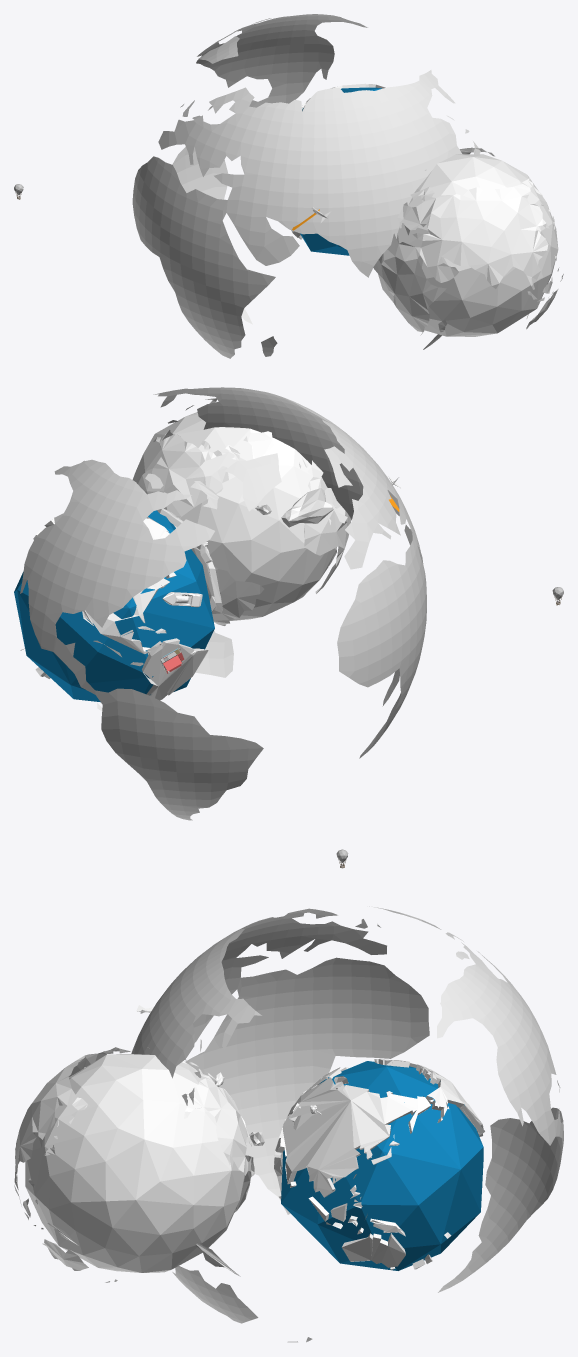
File: Low-Poly-Earth dae.dae
The picture shows the model from 3 angles, top to bottom: view 1: azimuth 30°, elevation 25°; view 2: azimuth 150°, elevation 25°; view 3: azimuth 270°, elevation 25°; orthographic projection. The views are drawn at different scales.
Visible parts, largest first — view 1: Extrude, land, sea, countries.1; view 2: Extrude, countries.1, sea, land, cloud; view 3: Extrude, countries.1, sea, land.
Boxes of the visible parts, x1,y1,x2,y2 form: Extrude: [132, 14, 480, 358]; land: [373, 147, 563, 332]; sea: [378, 154, 558, 336]; countries.1: [291, 83, 385, 255]; Extrude: [20, 387, 426, 820]; countries.1: [14, 508, 222, 702]; sea: [132, 412, 336, 620]; land: [138, 398, 351, 625]; cloud: [281, 488, 335, 527]; Extrude: [131, 906, 563, 1342]; countries.1: [274, 1059, 484, 1270]; sea: [25, 1054, 244, 1272]; land: [14, 1047, 254, 1282].
Size of the model in its own units: 554 by 359 by 494.
